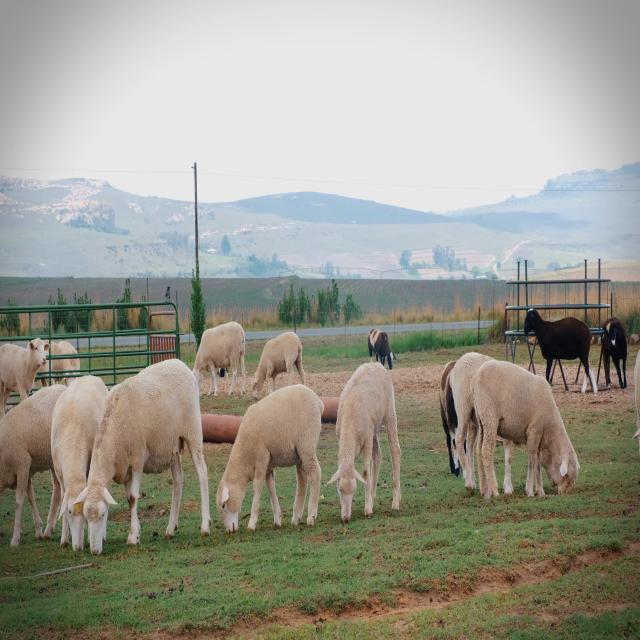sheep: (79, 343, 205, 572), (473, 332, 588, 523), (213, 377, 329, 546), (330, 360, 414, 546), (244, 316, 324, 395), (0, 330, 54, 410)
